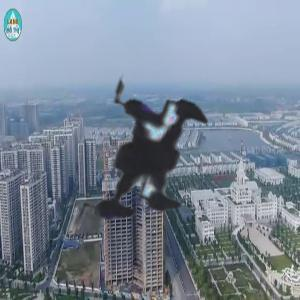drone: (6, 16, 289, 299)
